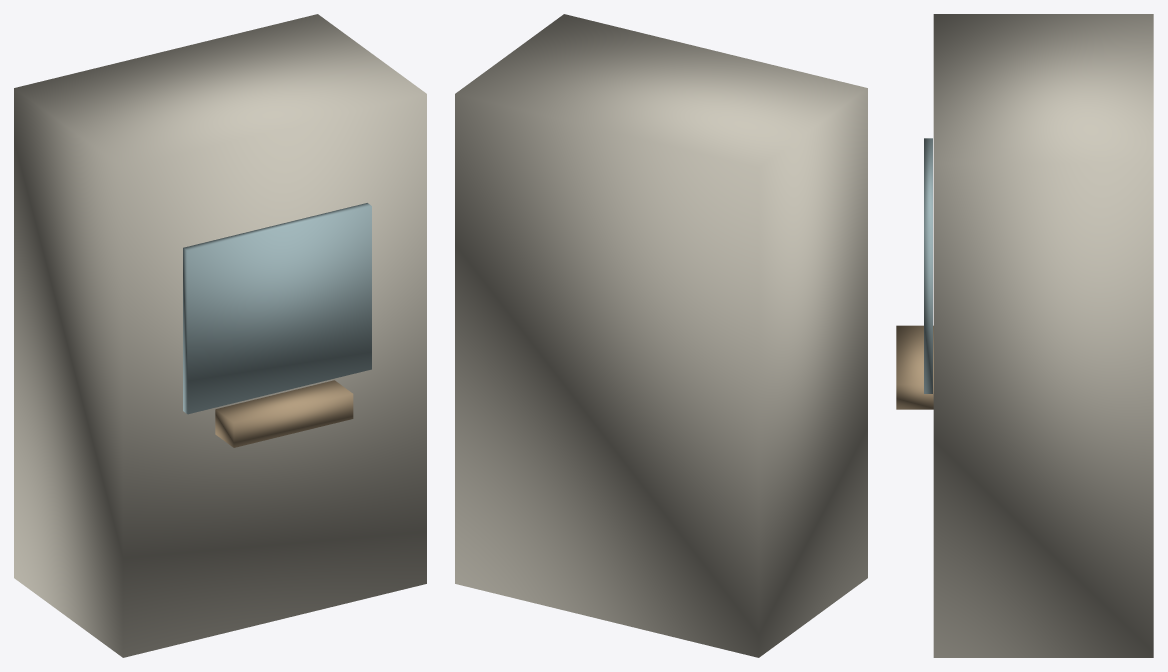
File: ticket_booth__compact.glb
3 renders of one model, left to right at view 1: azimuth 30°, elevation 25°; view 2: azimuth 150°, elevation 25°; view 3: azimuth 270°, elevation 25°, orthographic.
Visible parts, largest first — view 1: world; view 2: world; view 3: world.
Part boxes in pixels (<box>): world: <box>14,14,426,657</box>; world: <box>455,14,867,657</box>; world: <box>896,14,1153,657</box>.
Size of the model in its own units: 1.18 by 1.81 by 0.8557.
